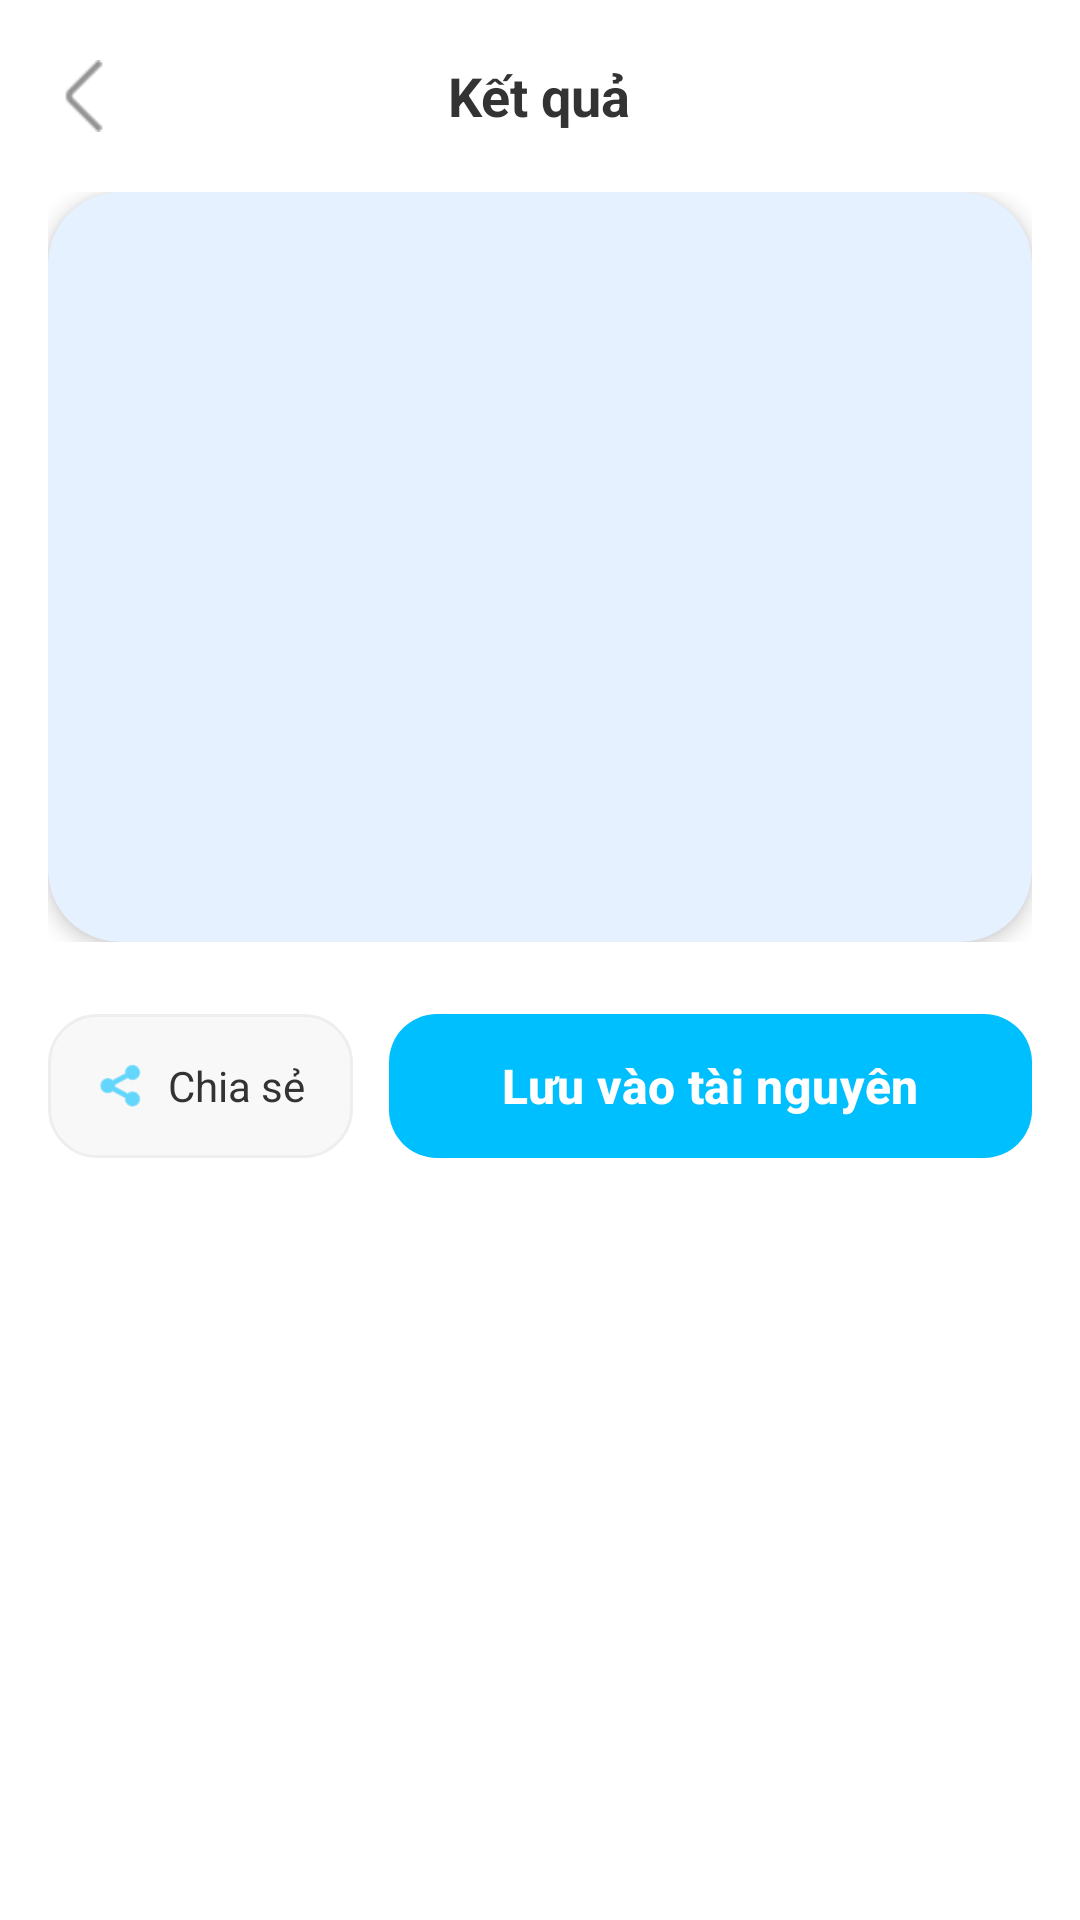

Icons on this 1080 x 1920 Android screen, each with its box as {"left": x1, "top": y1, "right": x2, "bottom": y2}:
back: {"left": 65, "top": 60, "right": 103, "bottom": 132}
share: {"left": 100, "top": 1065, "right": 140, "bottom": 1107}
